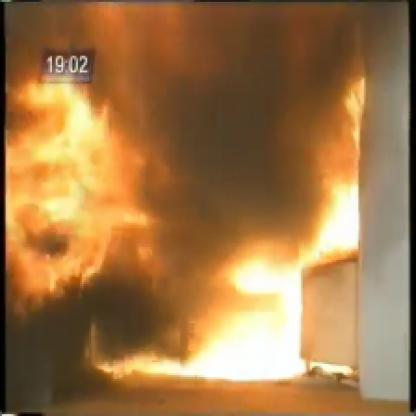fire: (180, 57, 385, 384), (5, 57, 161, 340)
